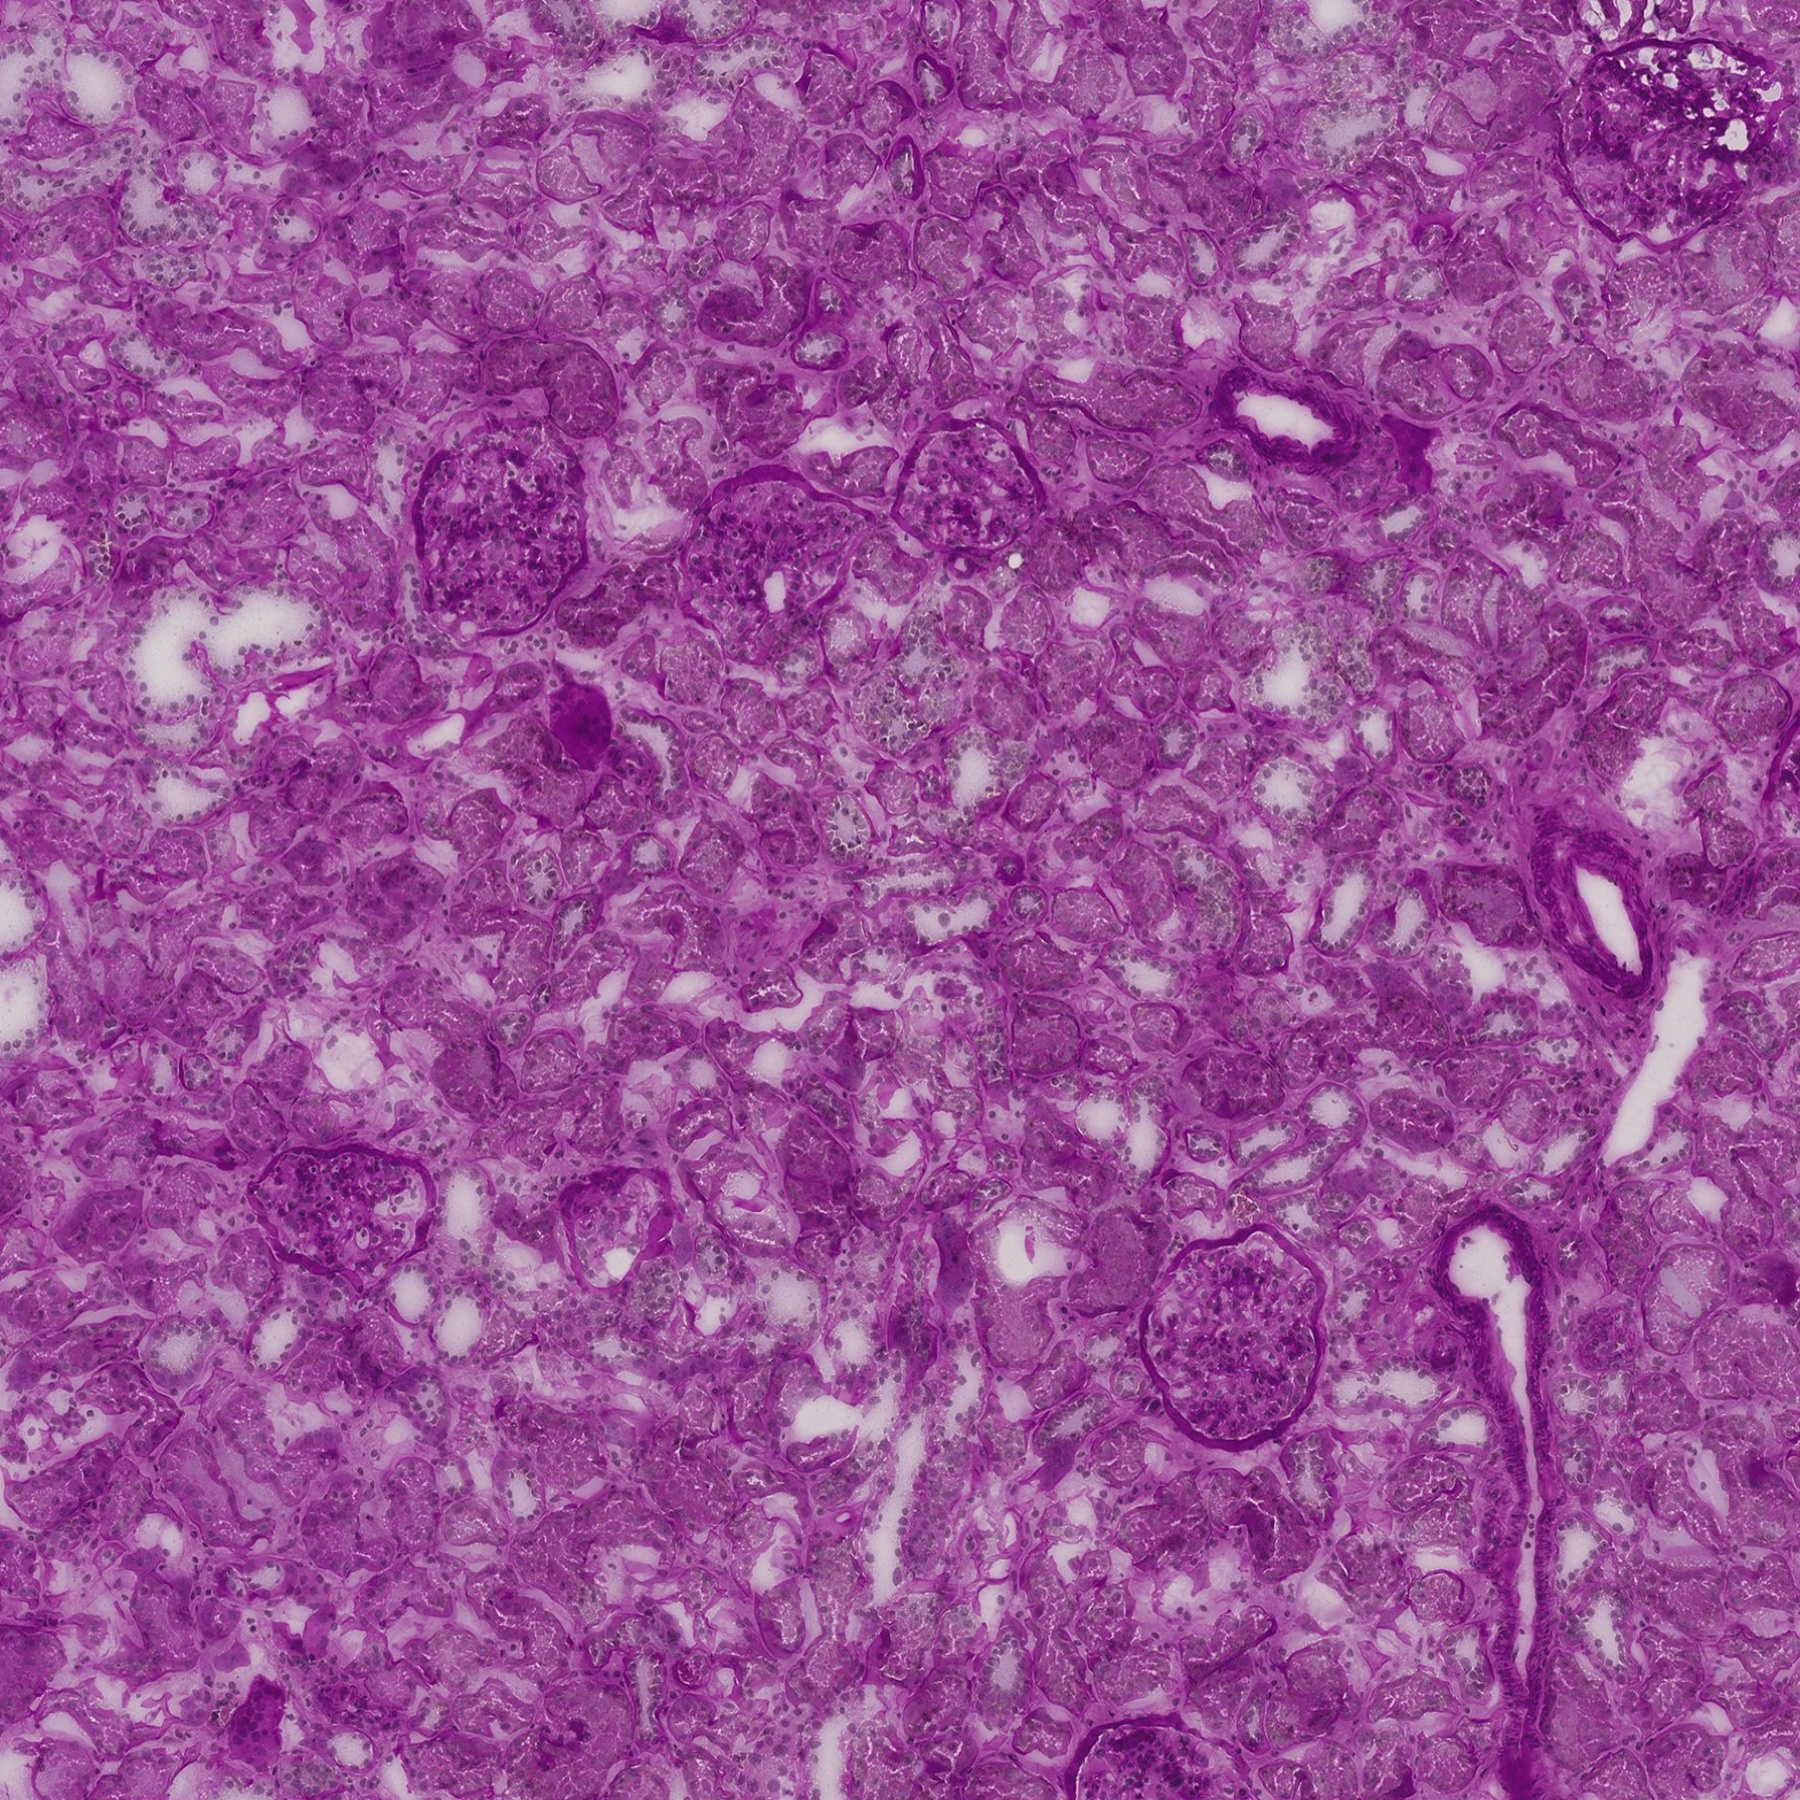Glomeruli: (1553, 36, 1785, 251), (1136, 1223, 1330, 1451), (410, 420, 593, 635), (249, 1141, 443, 1301), (885, 415, 1052, 560), (1068, 1718, 1259, 1800)
